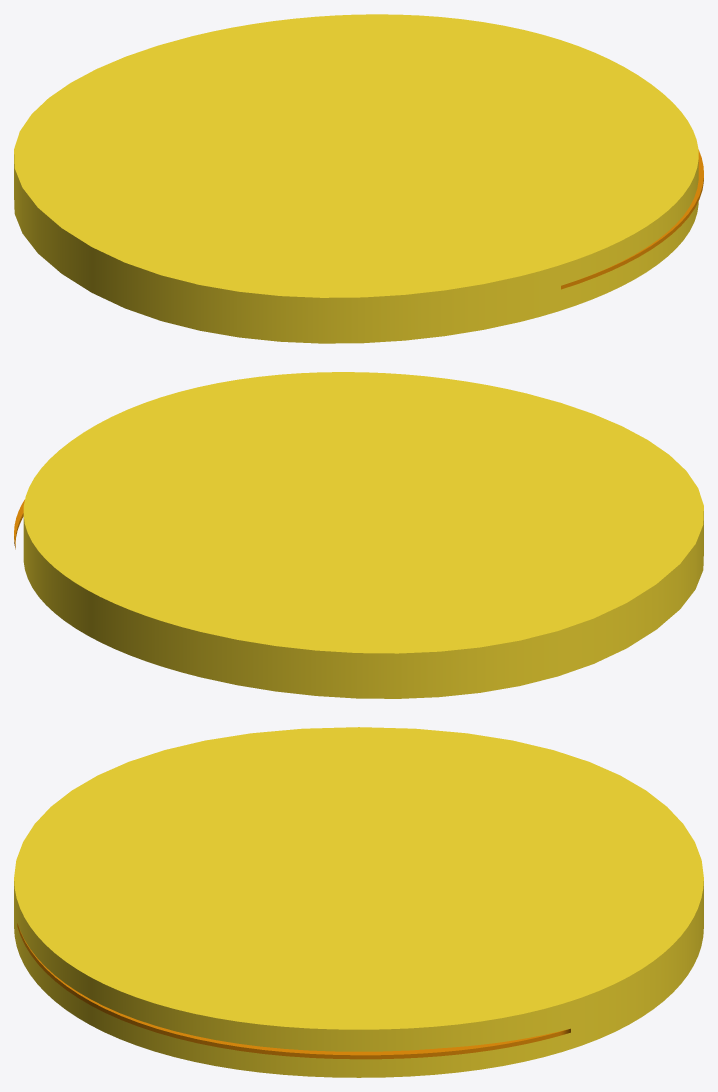
Rendered from emoji_u1f97a.glb.
The picture shows the model from 3 angles, top to bottom: view 1: azimuth 30°, elevation 25°; view 2: azimuth 150°, elevation 25°; view 3: azimuth 270°, elevation 25°; orthographic projection. The views are drawn at different scales.
Visible parts, largest first — view 1: emoji_u1f97a; view 2: emoji_u1f97a; view 3: emoji_u1f97a.
Boxes of the visible parts, x1,y1,x2,y2 form: emoji_u1f97a: (14,14,703,343); emoji_u1f97a: (14,372,703,698); emoji_u1f97a: (14,727,703,1077).
Size of the model in its own units: 0.0328 by 0.0024 by 0.0312.
